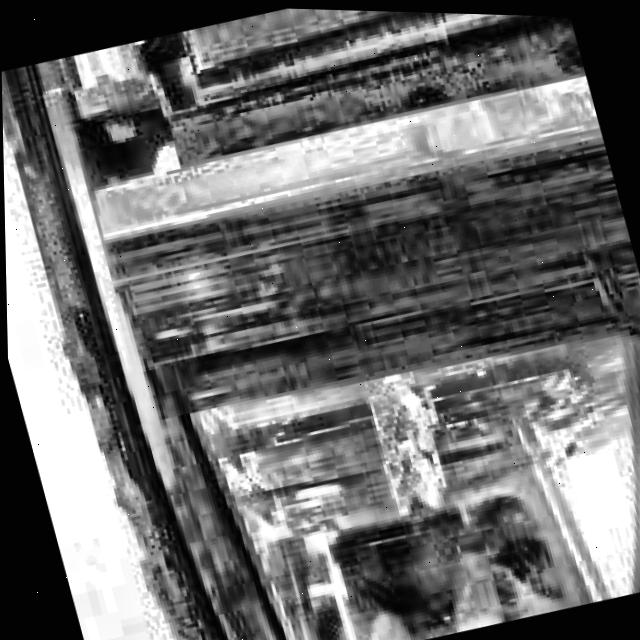tail_lamp: (44, 1, 640, 640)
